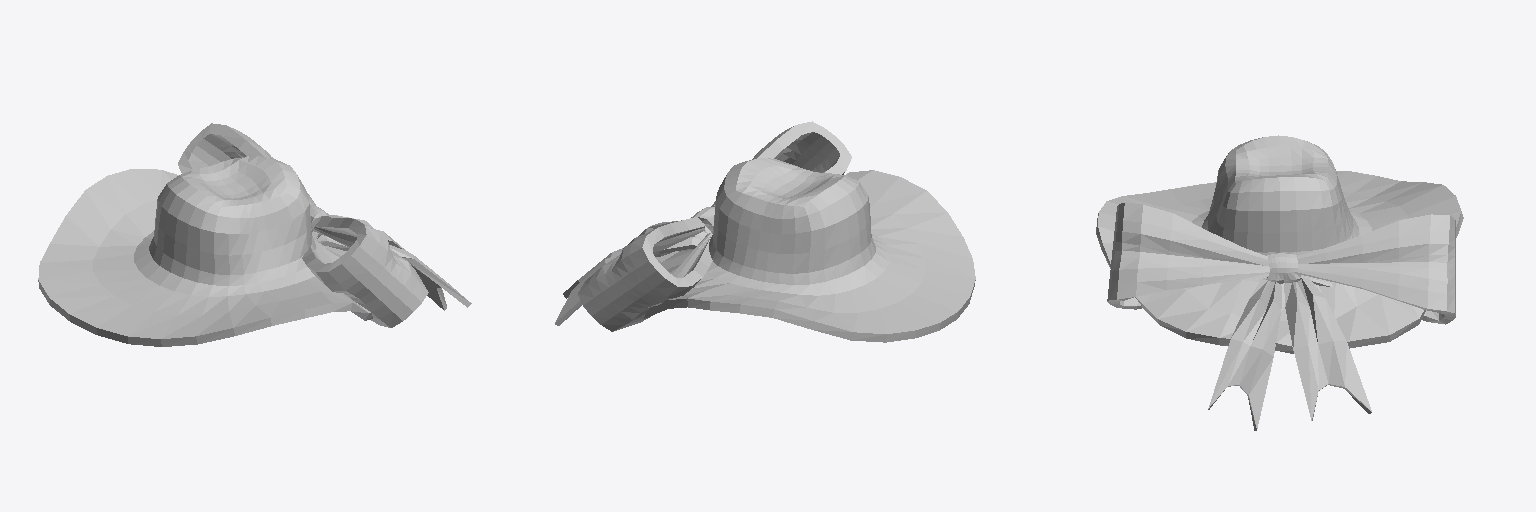
File: 07bowhat0723.obj
3 renders of one model, left to right at view 1: azimuth 30°, elevation 25°; view 2: azimuth 150°, elevation 25°; view 3: azimuth 270°, elevation 25°, orthographic.
Parts seen in each view (by area): view 1: pCube6; view 2: pCube6; view 3: pCube6.
Boxes of the visible parts, x1,y1,x2,y2 form: pCube6: [38, 123, 471, 346]; pCube6: [555, 121, 975, 342]; pCube6: [1096, 135, 1463, 430].
Size of the model in its own units: 14.46 by 6.47 by 12.13.